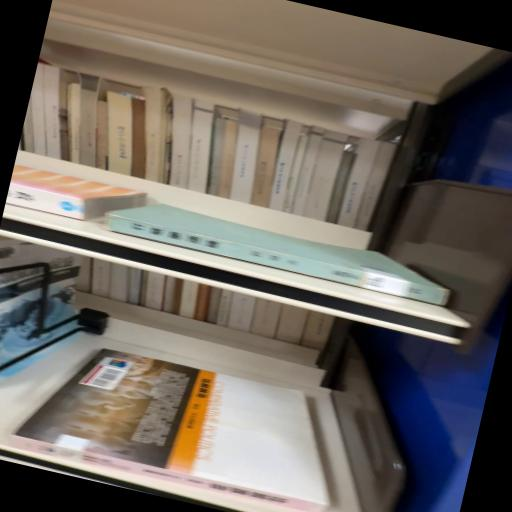flat: (13, 350, 330, 512), (106, 205, 449, 307), (6, 165, 147, 221)
